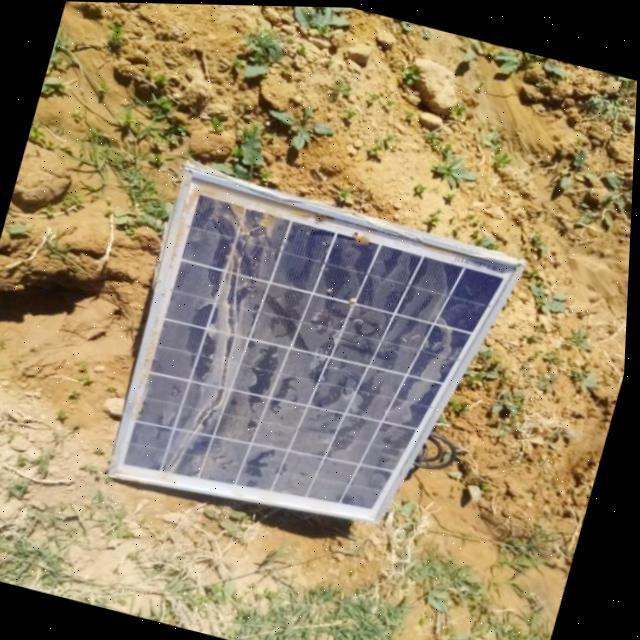Anomaly Solar Panel: (110, 170, 528, 560)
Surface Contaminant: (110, 170, 528, 560)
